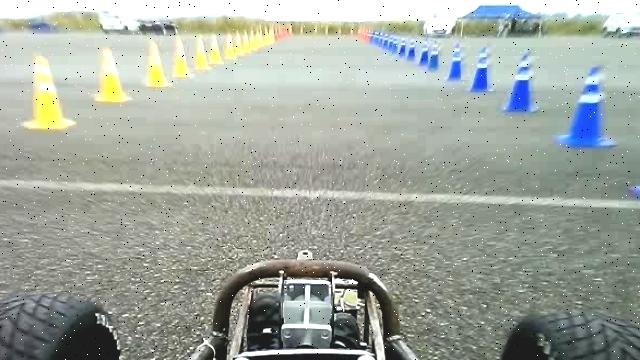blue cone: (558, 64, 618, 148), (504, 49, 540, 113), (470, 46, 494, 92), (447, 43, 464, 81), (428, 42, 441, 69)
yellow cone: (24, 54, 76, 129), (95, 46, 131, 102), (146, 39, 172, 86), (173, 38, 191, 77), (195, 35, 211, 69), (210, 34, 222, 64), (225, 32, 236, 59), (234, 32, 244, 55)
